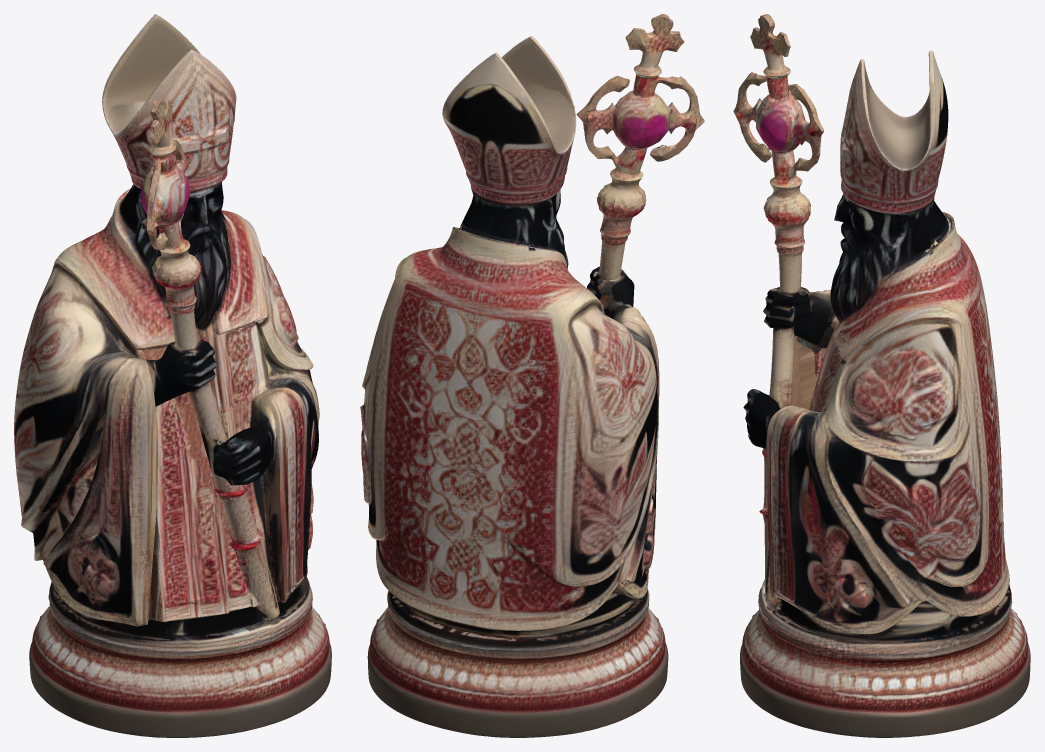
File: bishop_black.glb
The picture shows the model from 3 angles, left to right: view 1: azimuth 30°, elevation 25°; view 2: azimuth 150°, elevation 25°; view 3: azimuth 270°, elevation 25°; orthographic projection. The views are drawn at different scales.
Visible parts, largest first — view 1: model; view 2: model; view 3: model.
Part boxes in pixels (<box>): model: <box>14,14,331,737</box>; model: <box>360,14,704,737</box>; model: <box>733,14,1030,737</box>.
Size of the model in its own units: 0.8331 by 1.9 by 0.816.
1 material, 1 textured.
